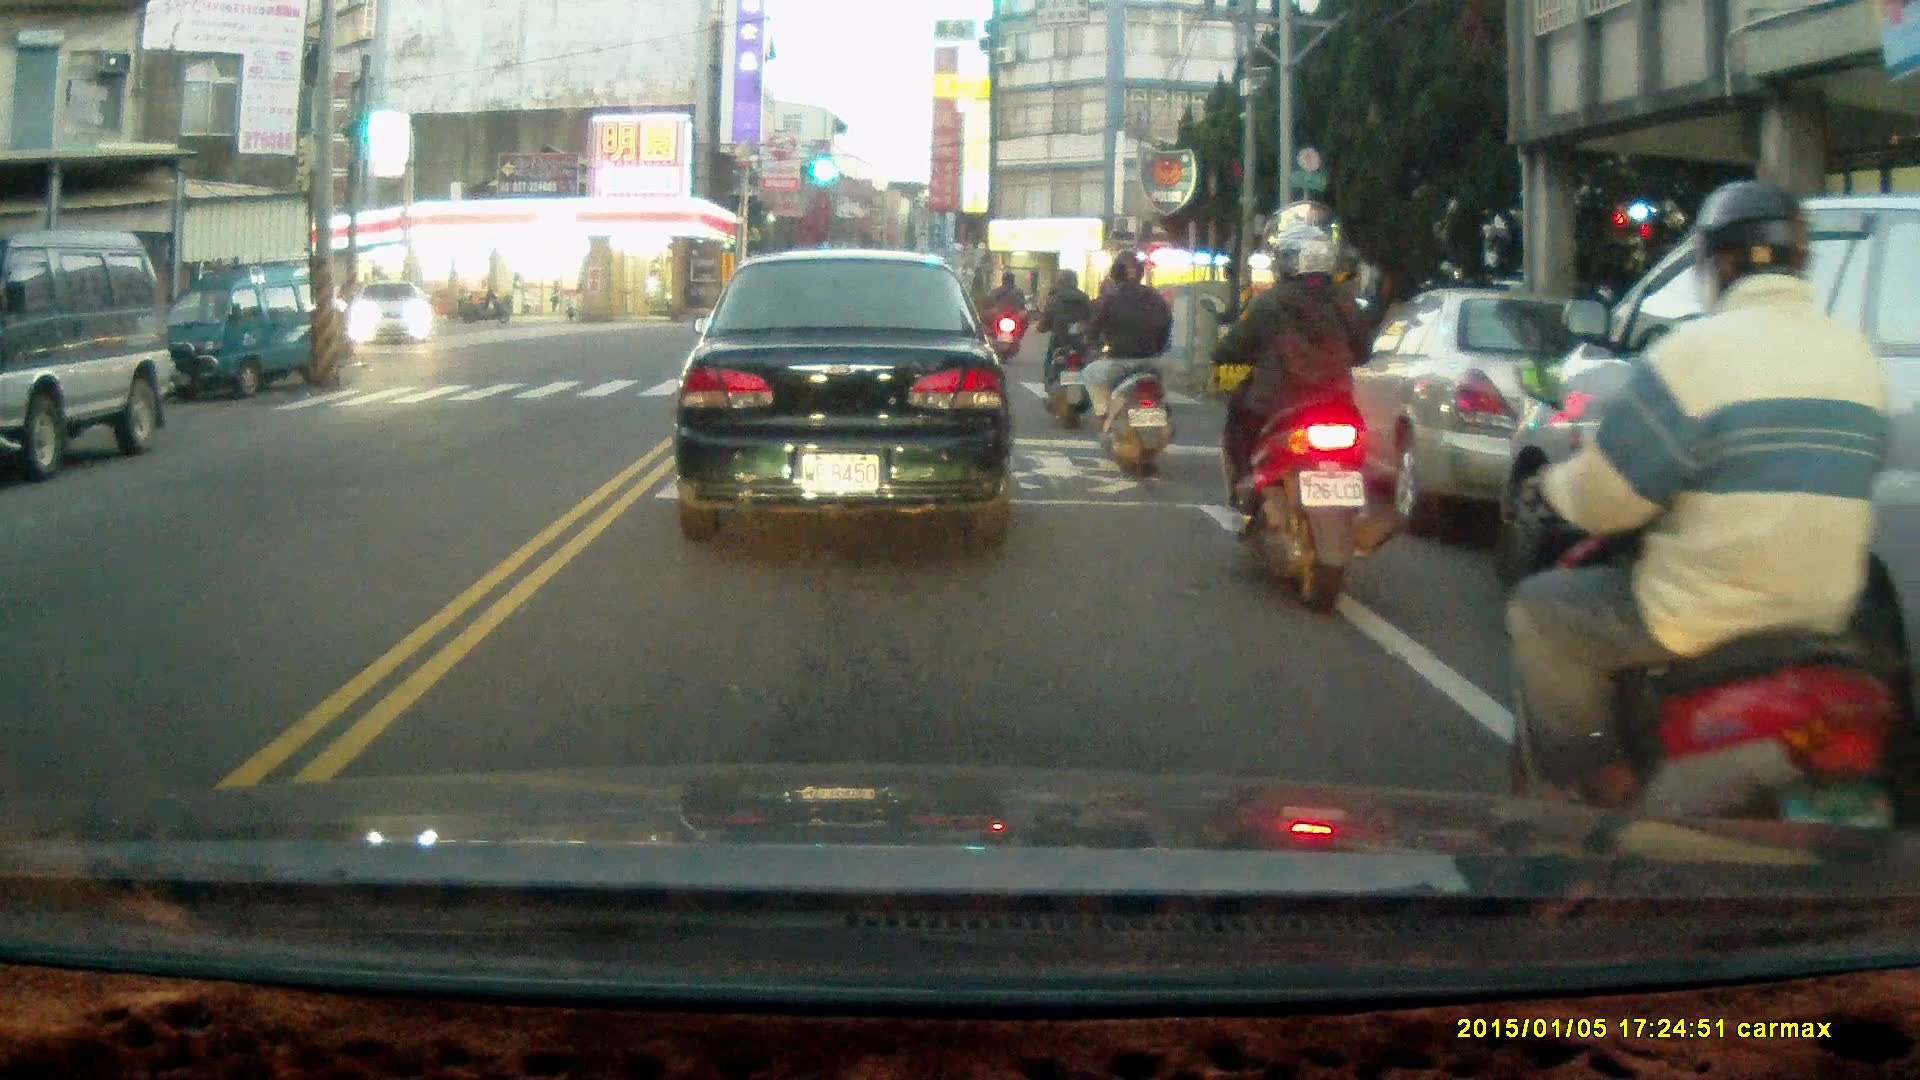rider: (1501, 177, 1898, 887), (1207, 220, 1396, 618), (1063, 250, 1169, 481), (1024, 266, 1098, 425), (987, 273, 1030, 365)
vehicle: (1508, 195, 1920, 825), (677, 250, 1019, 544), (1310, 288, 1690, 533), (1, 234, 163, 472), (149, 263, 346, 405), (351, 283, 436, 351)
